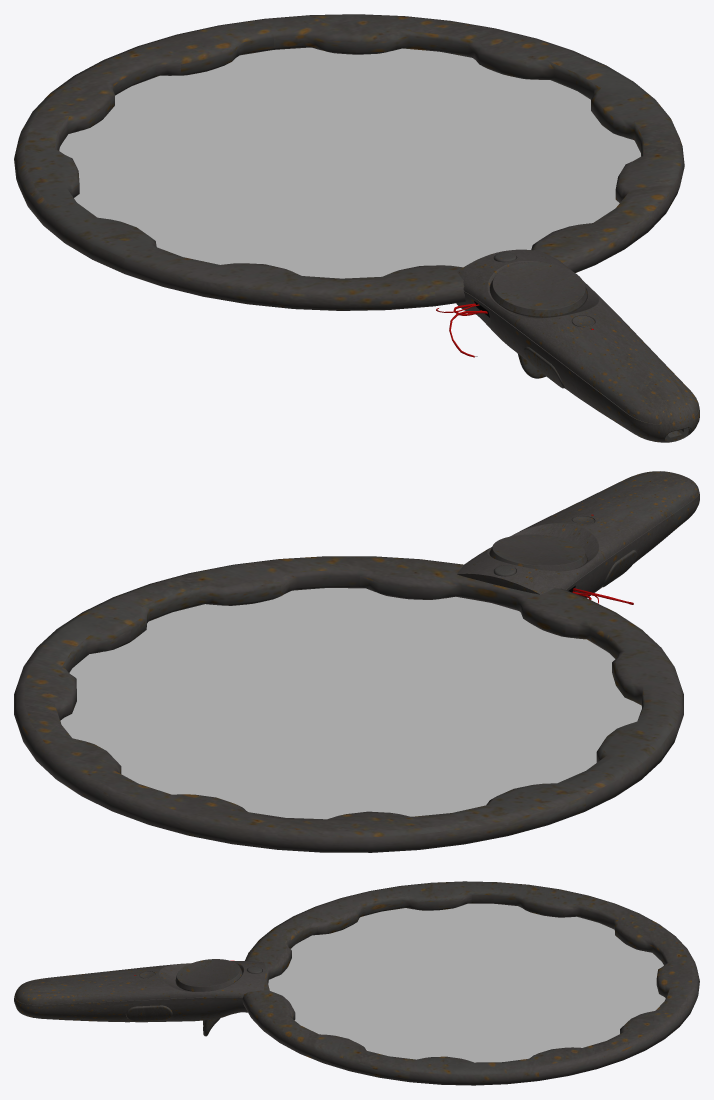
File: TimeDeviceV3.fbx
3 views of the same model, one above another, from view 1: azimuth 30°, elevation 25°; view 2: azimuth 150°, elevation 25°; view 3: azimuth 270°, elevation 25° (orthographic). The views are drawn at different scales.
Visible parts, largest first — view 1: Frame, RotateFrame, Handle; view 2: Frame, RotateFrame, Handle; view 3: Frame, RotateFrame, Handle.
Boxes of the visible parts, x1,y1,x2,y2 form: Frame: (59,47,640,278); RotateFrame: (14,14,684,310); Handle: (456,249,699,442); Frame: (60,588,641,819); RotateFrame: (14,556,683,852); Handle: (457,471,699,597); Frame: (268,903,665,1062); RotateFrame: (242,881,699,1085); Handle: (14,959,265,1036).
Bounding box in the file's own units: 11.95 × 1.89 × 17.77.
6 materials, 1 textured.
